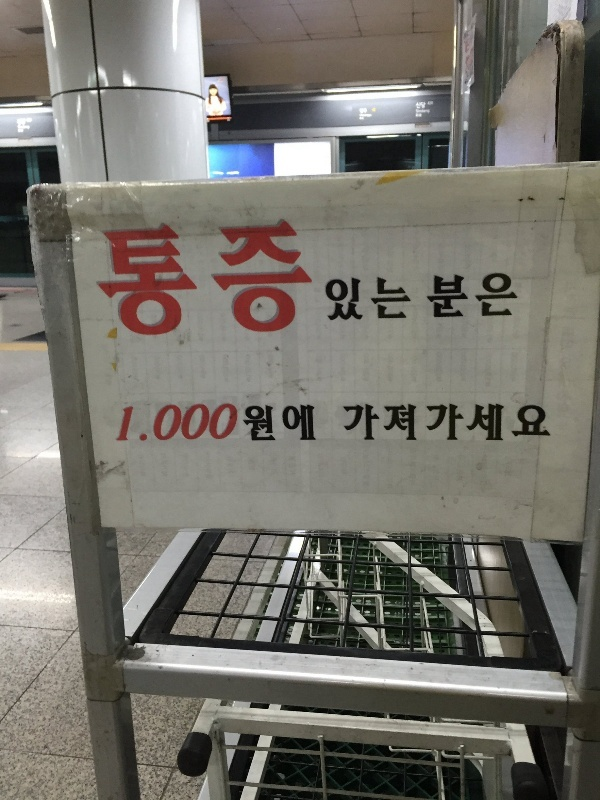text: (97, 213, 112, 342), (113, 213, 128, 342), (129, 213, 144, 342), (145, 213, 160, 342), (161, 213, 176, 342), (177, 213, 192, 342), (193, 213, 208, 342), (209, 213, 224, 342), (225, 213, 240, 342), (241, 213, 256, 342), (257, 213, 272, 342), (273, 213, 288, 342), (289, 213, 304, 342), (305, 213, 320, 342), (337, 266, 352, 330), (353, 266, 368, 330), (369, 266, 384, 330), (385, 266, 400, 330), (401, 266, 416, 330), (417, 266, 432, 330), (433, 266, 448, 330), (449, 266, 464, 330), (465, 266, 480, 330), (481, 266, 496, 330), (497, 266, 512, 330), (225, 400, 241, 450), (257, 400, 272, 452), (273, 400, 288, 452), (289, 400, 304, 452), (324, 266, 336, 330), (129, 400, 144, 450), (145, 400, 160, 450), (161, 400, 176, 450), (177, 400, 192, 450), (193, 400, 208, 450), (209, 400, 224, 450), (305, 400, 319, 452), (353, 399, 368, 445), (369, 399, 384, 445), (385, 399, 400, 445), (401, 399, 416, 445), (417, 399, 432, 445), (433, 399, 448, 445), (449, 399, 464, 445), (465, 399, 480, 445), (481, 399, 496, 445), (497, 399, 512, 445), (513, 399, 528, 445), (529, 399, 544, 445), (115, 400, 128, 450), (244, 400, 256, 452), (340, 399, 352, 445), (513, 266, 520, 330), (545, 399, 554, 445), (321, 213, 322, 342)
